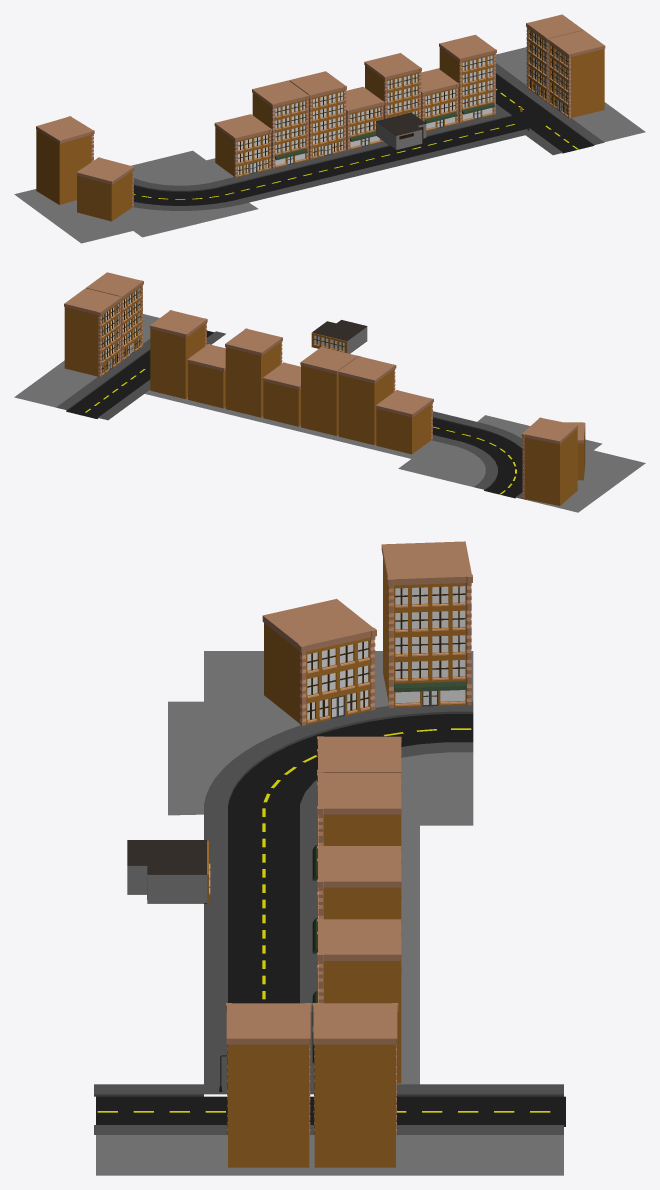
File: buildings.fbx
3 views of the same model, one above another, from view 1: azimuth 30°, elevation 25°; view 2: azimuth 150°, elevation 25°; view 3: azimuth 270°, elevation 25° (orthographic). The views are drawn at different scales.
Parts seen in each view (by area): view 1: Road, Sidewalk.003, Sidewalk, Building.008, Building.010, Sidewalk.002, Sidewalk.006, Road.010, Building, Building.006, Building.007, Sidewalk.010 (+39 smaller); view 2: Sidewalk.003, Building.008, Sidewalk.002, Building.009, Building.004, Building, Road.010, Building.006, Sidewalk.006, Road.002, Building.002, Sidewalk.001 (+28 smaller); view 3: Sidewalk.006, Road, Sidewalk.003, Sidewalk, Road.010, Building.009, Building.010, Sidewalk.010, Sidewalk.002, Road.002, Sidewalk.001, Bricks 1.008 (+23 smaller).
Boxes of the visible parts, left/top/right/bottom form: Road: left=231, top=116, right=527, bottom=196; Sidewalk.003: left=14, top=189, right=258, bottom=243; Sidewalk: left=225, top=110, right=535, bottom=200; Building.008: left=36, top=129, right=91, bottom=192; Building.010: left=550, top=44, right=604, bottom=105; Sidewalk.002: left=131, top=150, right=229, bottom=185; Sidewalk.006: left=495, top=47, right=645, bottom=142; Road.010: left=133, top=185, right=247, bottom=205; Building: left=252, top=93, right=306, bottom=155; Building.006: left=439, top=47, right=493, bottom=109; Building.007: left=77, top=171, right=132, bottom=208; Sidewalk.010: left=133, top=178, right=254, bottom=210; Sidewalk.003: left=477, top=415, right=645, bottom=512; Building.008: left=524, top=429, right=577, bottom=493; Sidewalk.002: left=398, top=441, right=485, bottom=486; Building.009: left=64, top=302, right=119, bottom=363; Building.004: left=225, top=342, right=280, bottom=405; Building: left=338, top=370, right=393, bottom=432; Road.010: left=448, top=426, right=522, bottom=498; Building.006: left=150, top=324, right=205, bottom=386; Sidewalk.006: left=14, top=314, right=159, bottom=407; Road.002: left=66, top=362, right=150, bottom=418; Building.002: left=301, top=365, right=338, bottom=423; Sidewalk.001: left=145, top=390, right=434, bottom=458; Sidewalk.006: left=96, top=1135, right=563, bottom=1175; Road: left=228, top=822, right=299, bottom=1003; Sidewalk.003: left=168, top=651, right=473, bottom=815; Sidewalk: left=204, top=820, right=317, bottom=1094; Road.010: left=228, top=714, right=473, bottom=822; Building.009: left=314, top=1044, right=395, bottom=1142; Building.010: left=228, top=1044, right=309, bottom=1142; Sidewalk.010: left=204, top=701, right=473, bottom=820; Sidewalk.002: left=401, top=752, right=473, bottom=825; Road.002: left=309, top=1096, right=565, bottom=1126; Sidewalk.001: left=397, top=825, right=419, bottom=1084; Bricks 1.008: left=381, top=541, right=472, bottom=683.
Size of the model in its own units: 10343 by 1207 by 3930.
